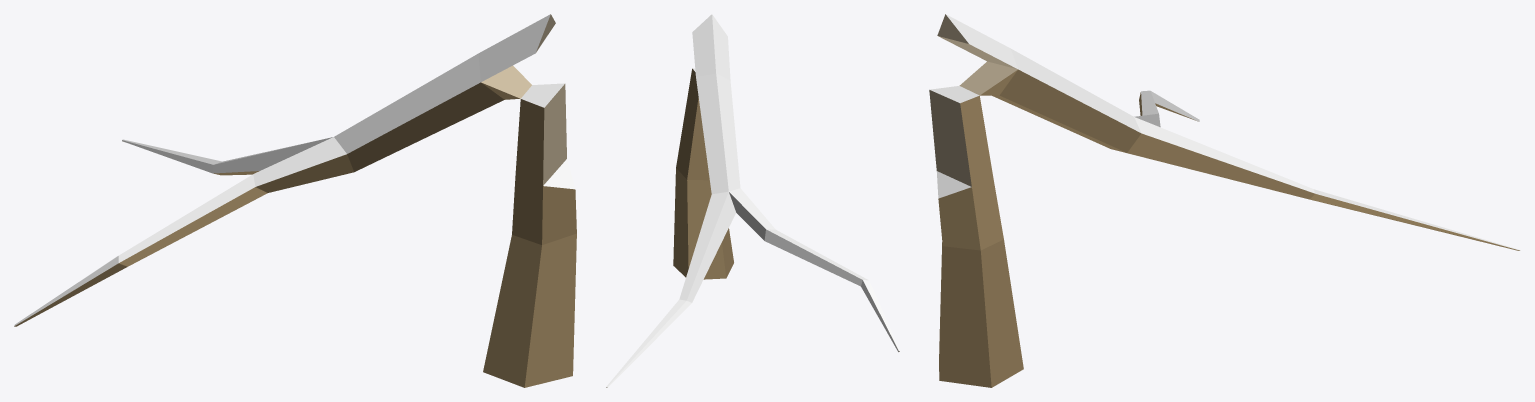
File: Apple_Tree_NoLeaves_crk_m_Snow_01_LOD.fbx
3 views of the same model, side by side, from view 1: azimuth 30°, elevation 25°; view 2: azimuth 150°, elevation 25°; view 3: azimuth 270°, elevation 25° (orthographic). The views are drawn at different scales.
Visible parts, largest first — view 1: Apple_Tree_NoLeaves_crk_m_Snow_01_LOD0; view 2: Apple_Tree_NoLeaves_crk_m_Snow_01_LOD0; view 3: Apple_Tree_NoLeaves_crk_m_Snow_01_LOD0.
Boxes of the visible parts, <box> form: Apple_Tree_NoLeaves_crk_m_Snow_01_LOD0: <box>14,14,576,387</box>; Apple_Tree_NoLeaves_crk_m_Snow_01_LOD0: <box>606,14,900,387</box>; Apple_Tree_NoLeaves_crk_m_Snow_01_LOD0: <box>929,14,1520,387</box>.
Size of what is drawn, in the model's own units: 247 by 194 by 290.
